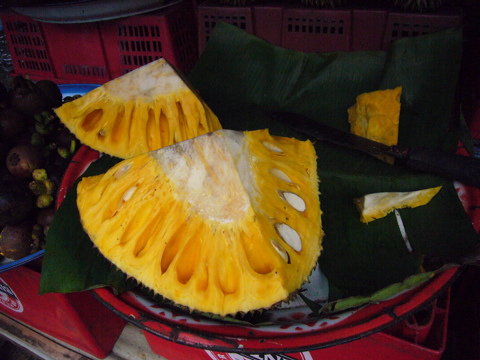jackfruit: (70, 122, 329, 323), (48, 55, 224, 163), (353, 182, 445, 226), (345, 83, 403, 146)
